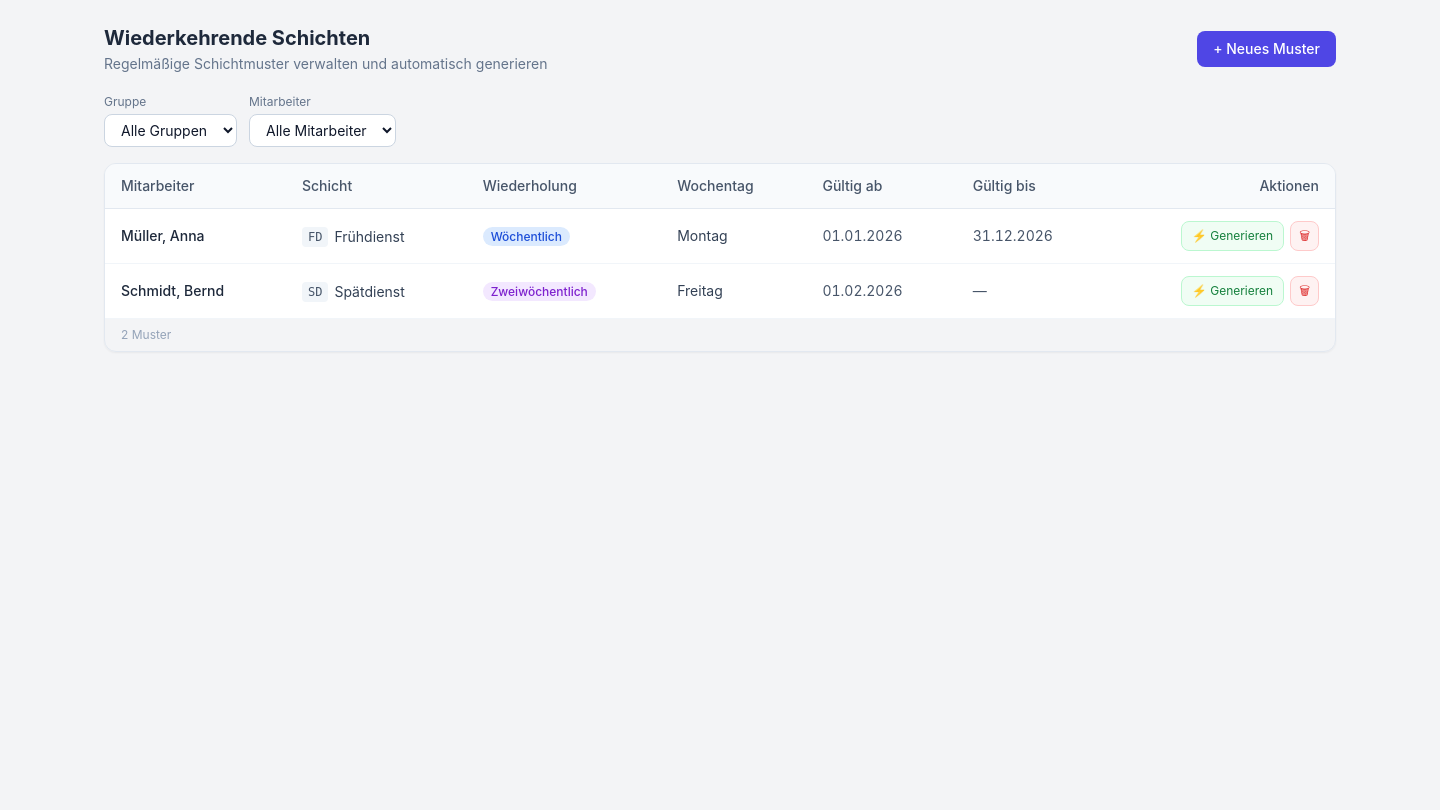
Test: RecurringShifts › opens delete confirmation dialog
Expected: the text "Müller, Anna" is shown, [105, 208, 286, 264]
Click the button titled "Muster löschen" in the row of "Müller, Anna" at (1305, 236), box [1290, 221, 1319, 251]
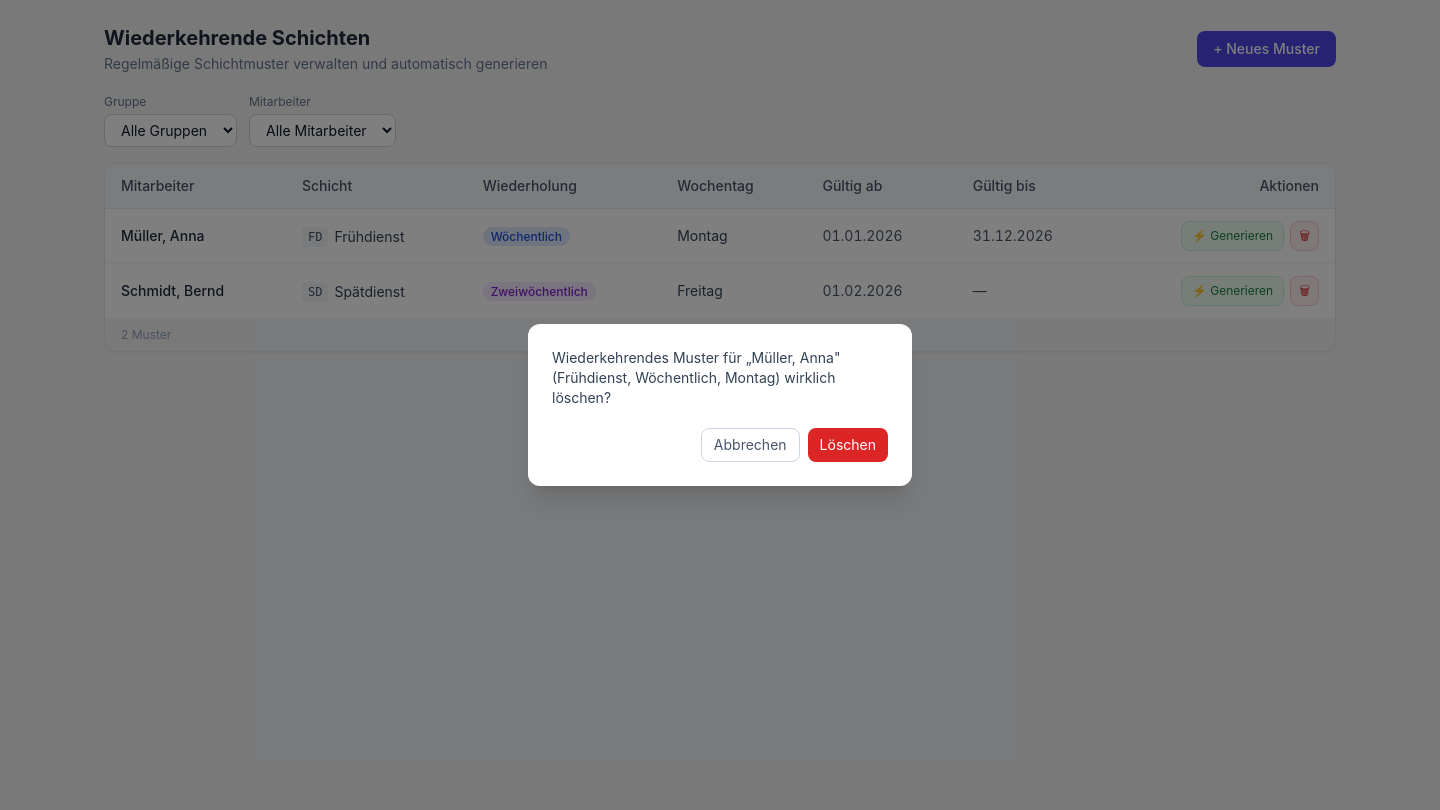
Expected: the text "wirklich löschen" is shown, [552, 349, 840, 406]
